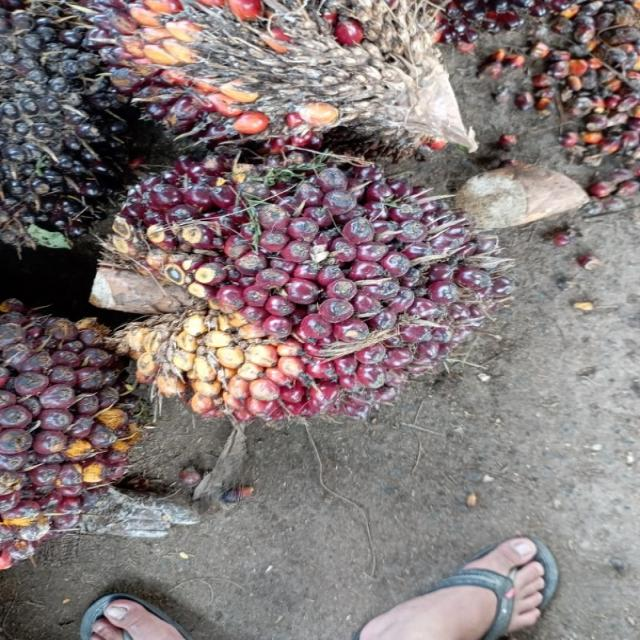fraksi 1: (131, 156, 503, 423)
